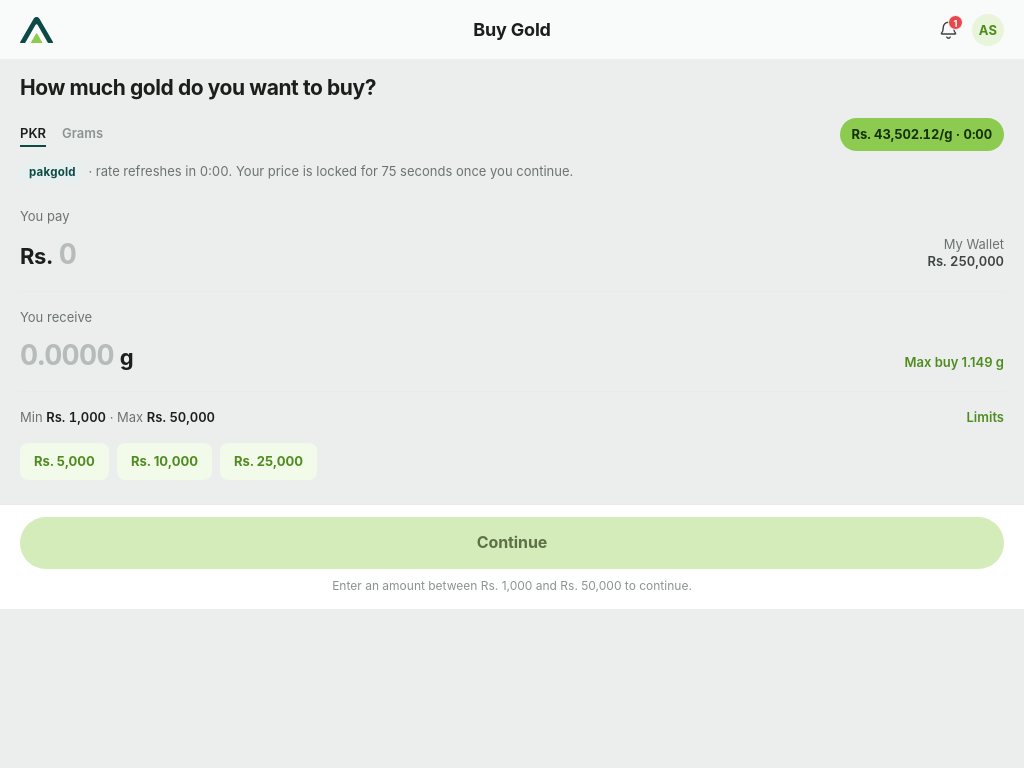
Test: who decides an order cannot go through › sends the order even when the platform looks short, and reports the server’s answer
This screenshot has width=1024, height=768.
In the field named "You pay in PKR": (487, 254) [59,234,915,275], type "5000"
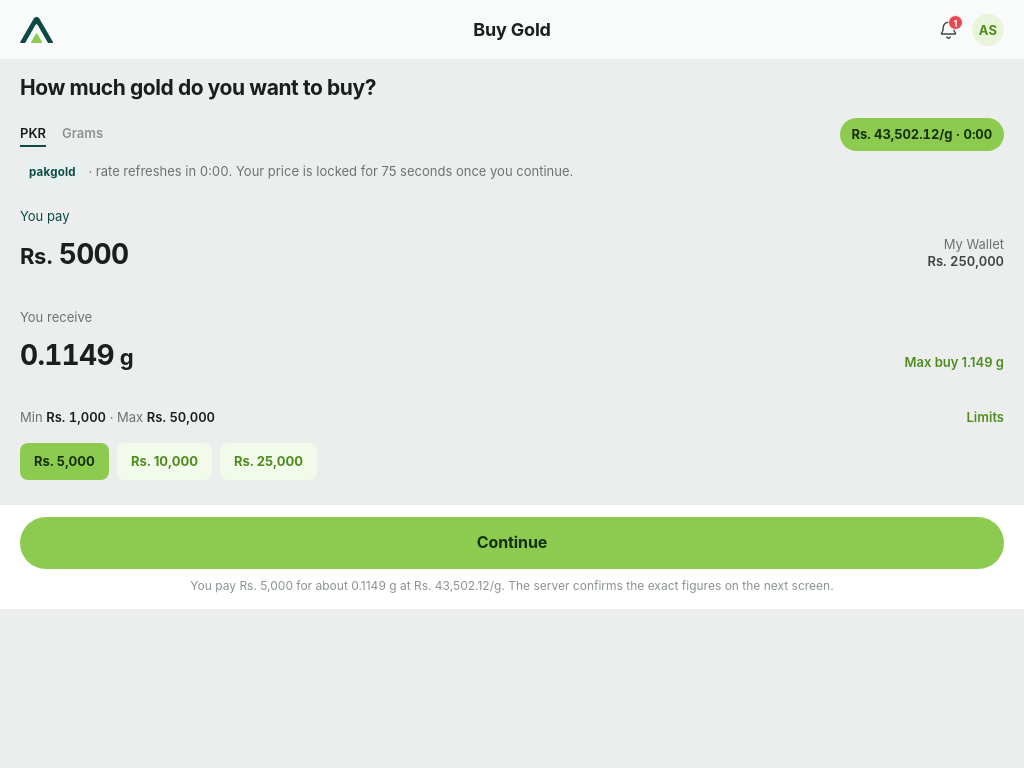
expect the button "Continue" is enabled: met
Click the button "Continue": (512, 543) [20,517,1004,569]
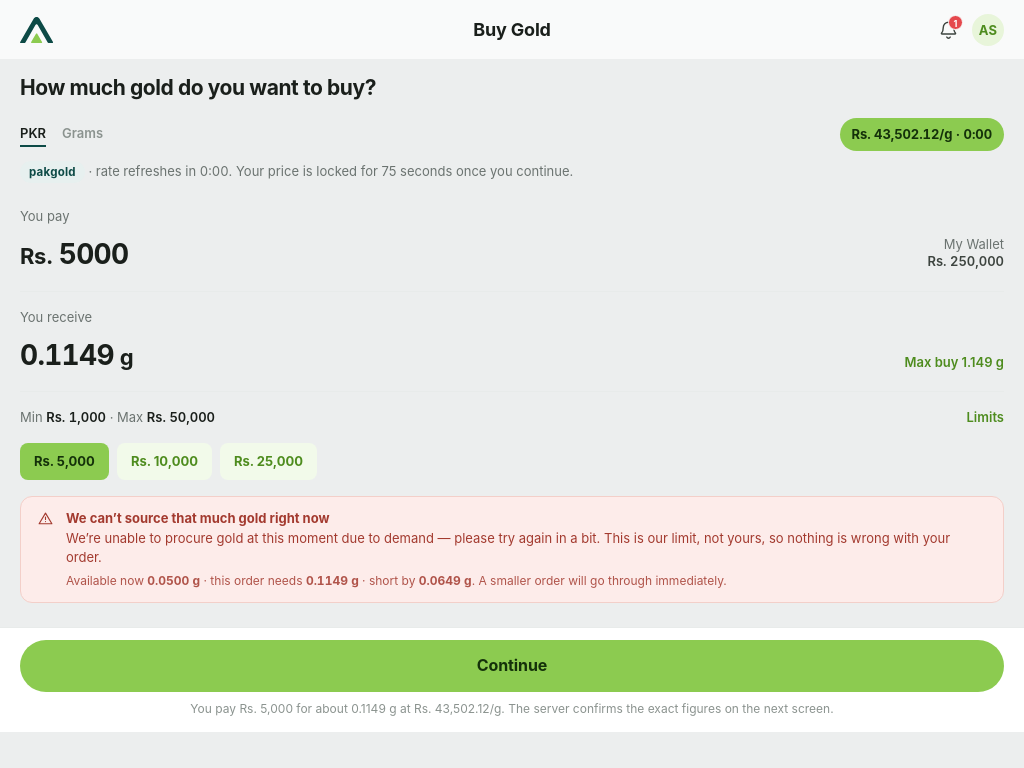
expect the text "unable to procure gold" is shown: met, box [66,530,950,565]
